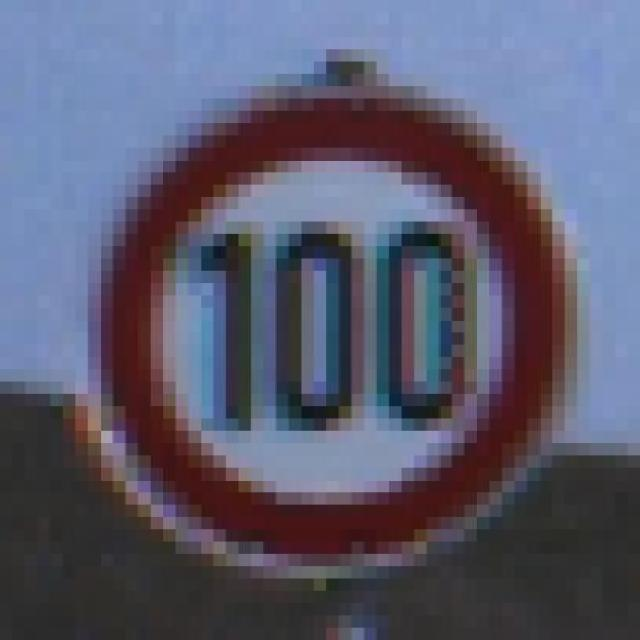forb_speed_over_100: (103, 96, 563, 562)
